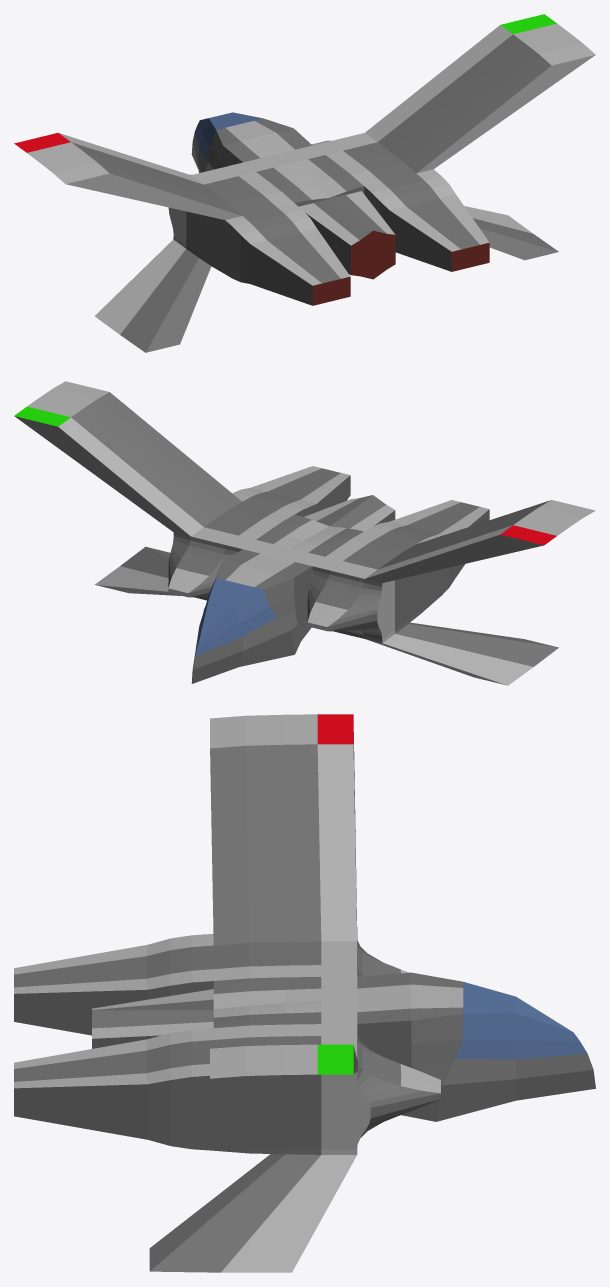
The model's file is spaceship3.fbx.
3 views of the same model, one above another, from view 1: azimuth 30°, elevation 25°; view 2: azimuth 150°, elevation 25°; view 3: azimuth 270°, elevation 25° (orthographic). The views are drawn at different scales.
Visible parts, largest first — view 1: Cube; view 2: Cube; view 3: Cube.
Part boxes in pixels (left/top/right/bottom): Cube: left=14, top=14, right=595, bottom=352; Cube: left=14, top=381, right=595, bottom=685; Cube: left=14, top=714, right=595, bottom=1272.
Size of the model in its own units: 1976 by 608 by 1349.
